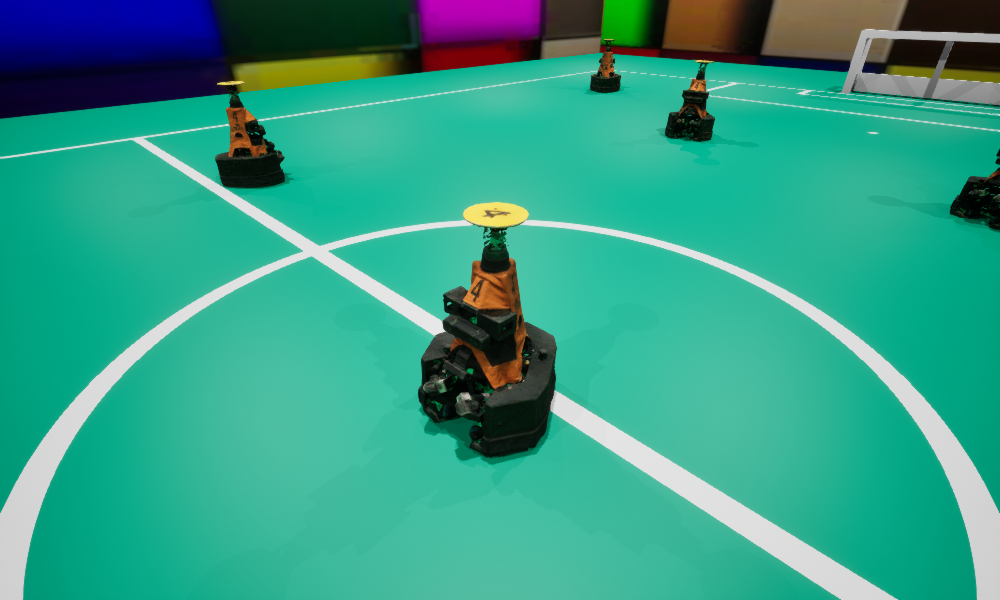o: (418, 202, 556, 456), (215, 81, 284, 187), (665, 60, 714, 140), (950, 149, 999, 228), (590, 39, 620, 92)
